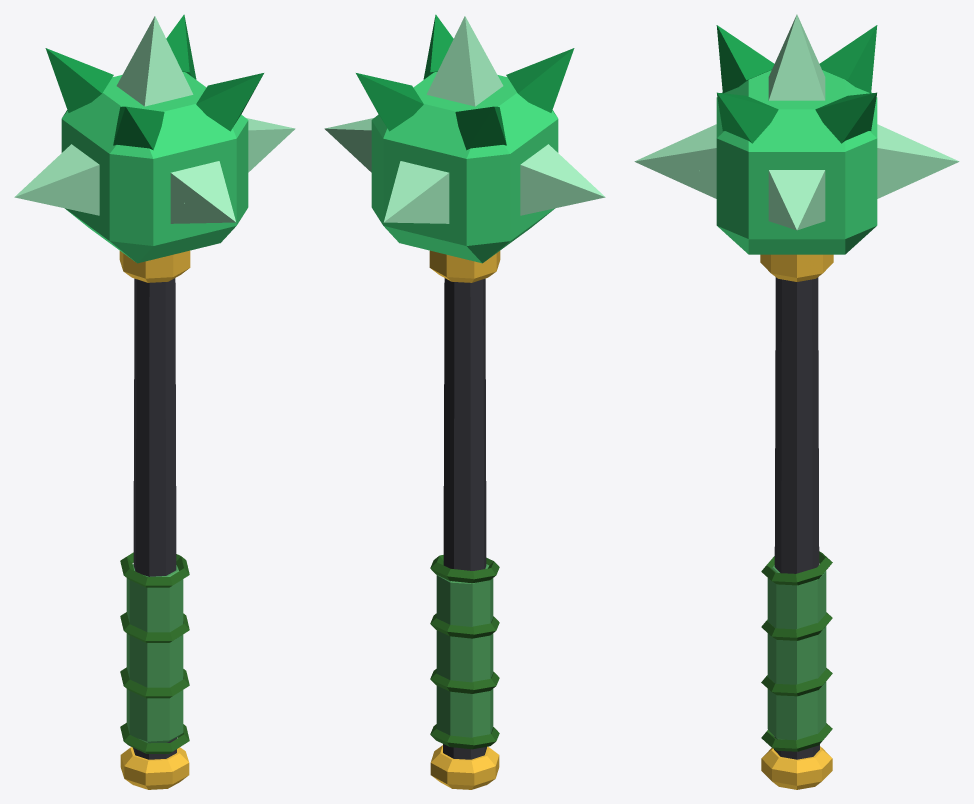
File: EmeraldMace.fbx
The picture shows the model from 3 angles, left to right: view 1: azimuth 30°, elevation 25°; view 2: azimuth 150°, elevation 25°; view 3: azimuth 270°, elevation 25°; orthographic projection.
Visible parts, largest first — view 1: EmeraldMace; view 2: EmeraldMace; view 3: EmeraldMace.
Boxes of the visible parts, bbox=[...] form: EmeraldMace: bbox=[14, 14, 295, 789]; EmeraldMace: bbox=[324, 14, 605, 789]; EmeraldMace: bbox=[634, 14, 959, 789].
Bounding box in the file's own units: 1.42 × 3.68 × 1.42.
1 material, 1 textured.
